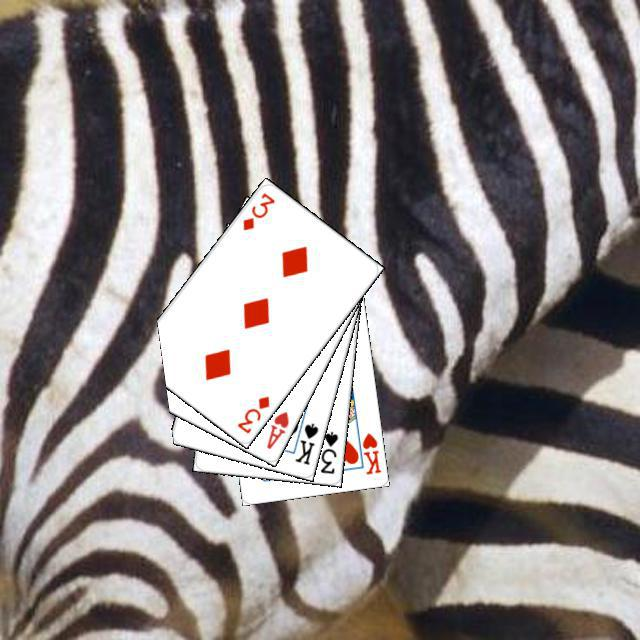3d: (237, 188, 277, 232), (232, 391, 271, 435)
3s: (315, 426, 340, 475)
Ah: (262, 406, 291, 451)
Kh: (352, 425, 383, 476)
Ks: (290, 418, 320, 466)
